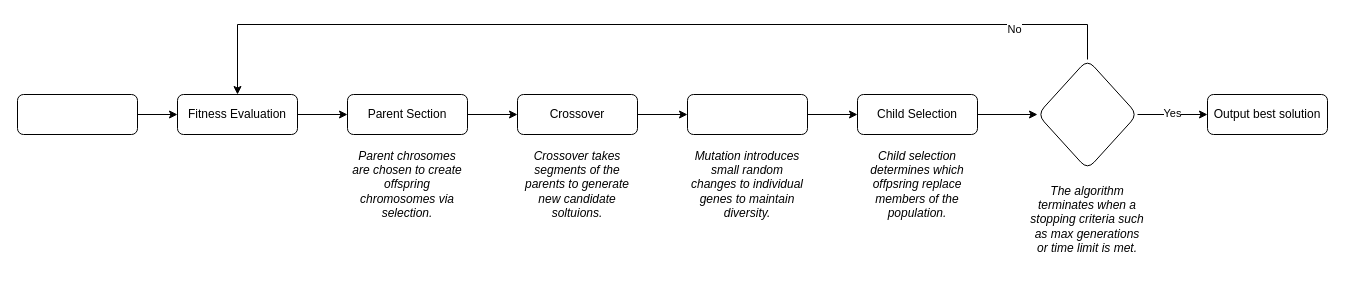
Some shapes in this 1345 by 287 pixel diagram are drawn without their labels. Each missing label, with the centre of its shape:
Mutation: the point at 747,114
Population Initialised: the point at 77,114
Termination criteria met?: the point at 1087,114
